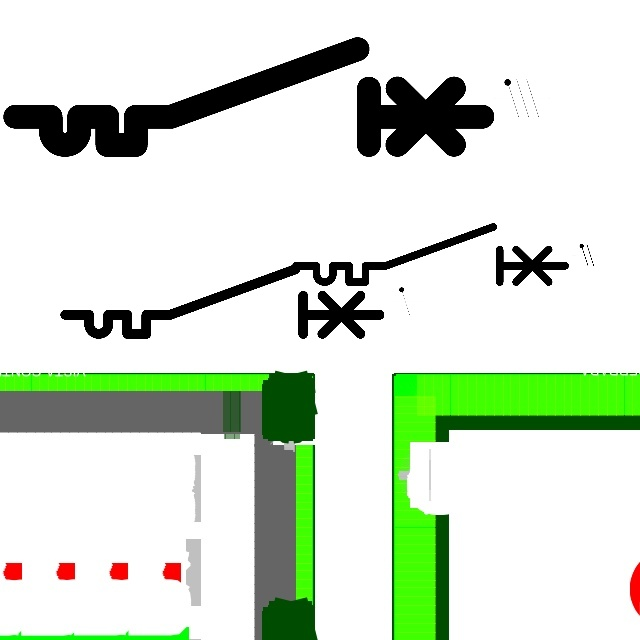interruptor_termomagnetico: (3, 37, 494, 157), (57, 261, 387, 342), (289, 220, 572, 289)
